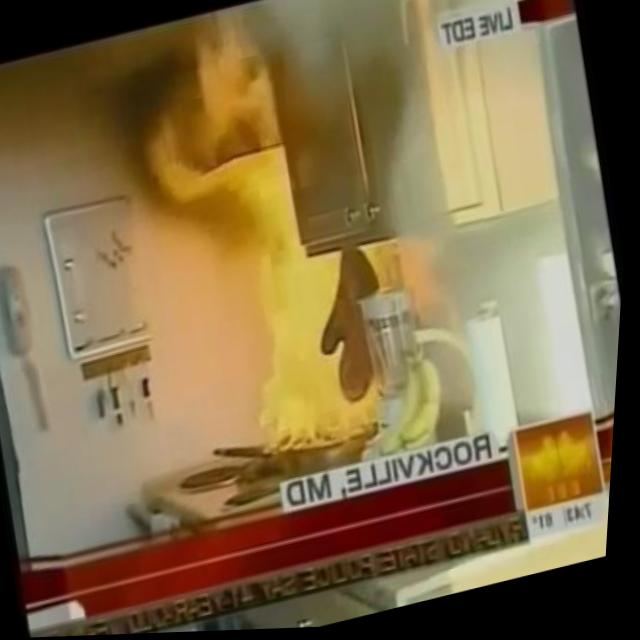fire: (215, 173, 400, 465)
